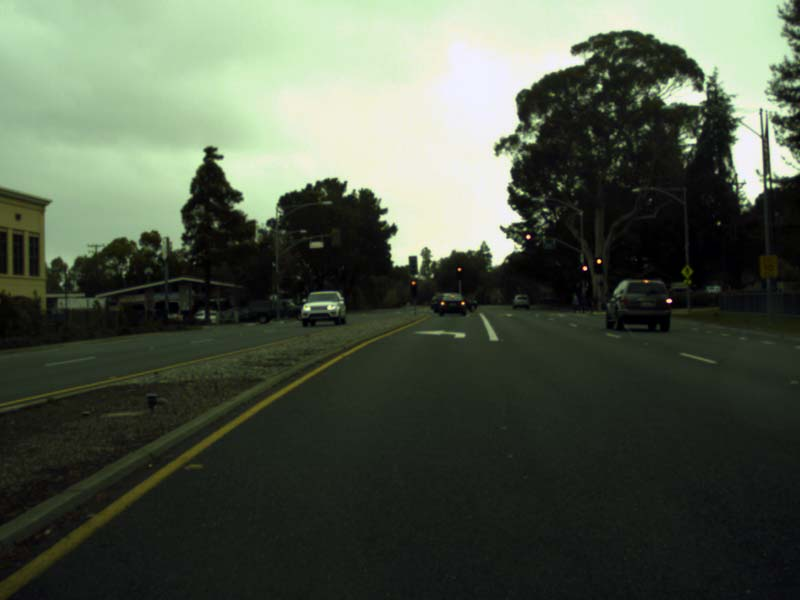Red: (524, 232, 532, 249), (595, 258, 602, 274), (411, 280, 417, 295), (456, 266, 462, 279), (582, 265, 587, 279)
